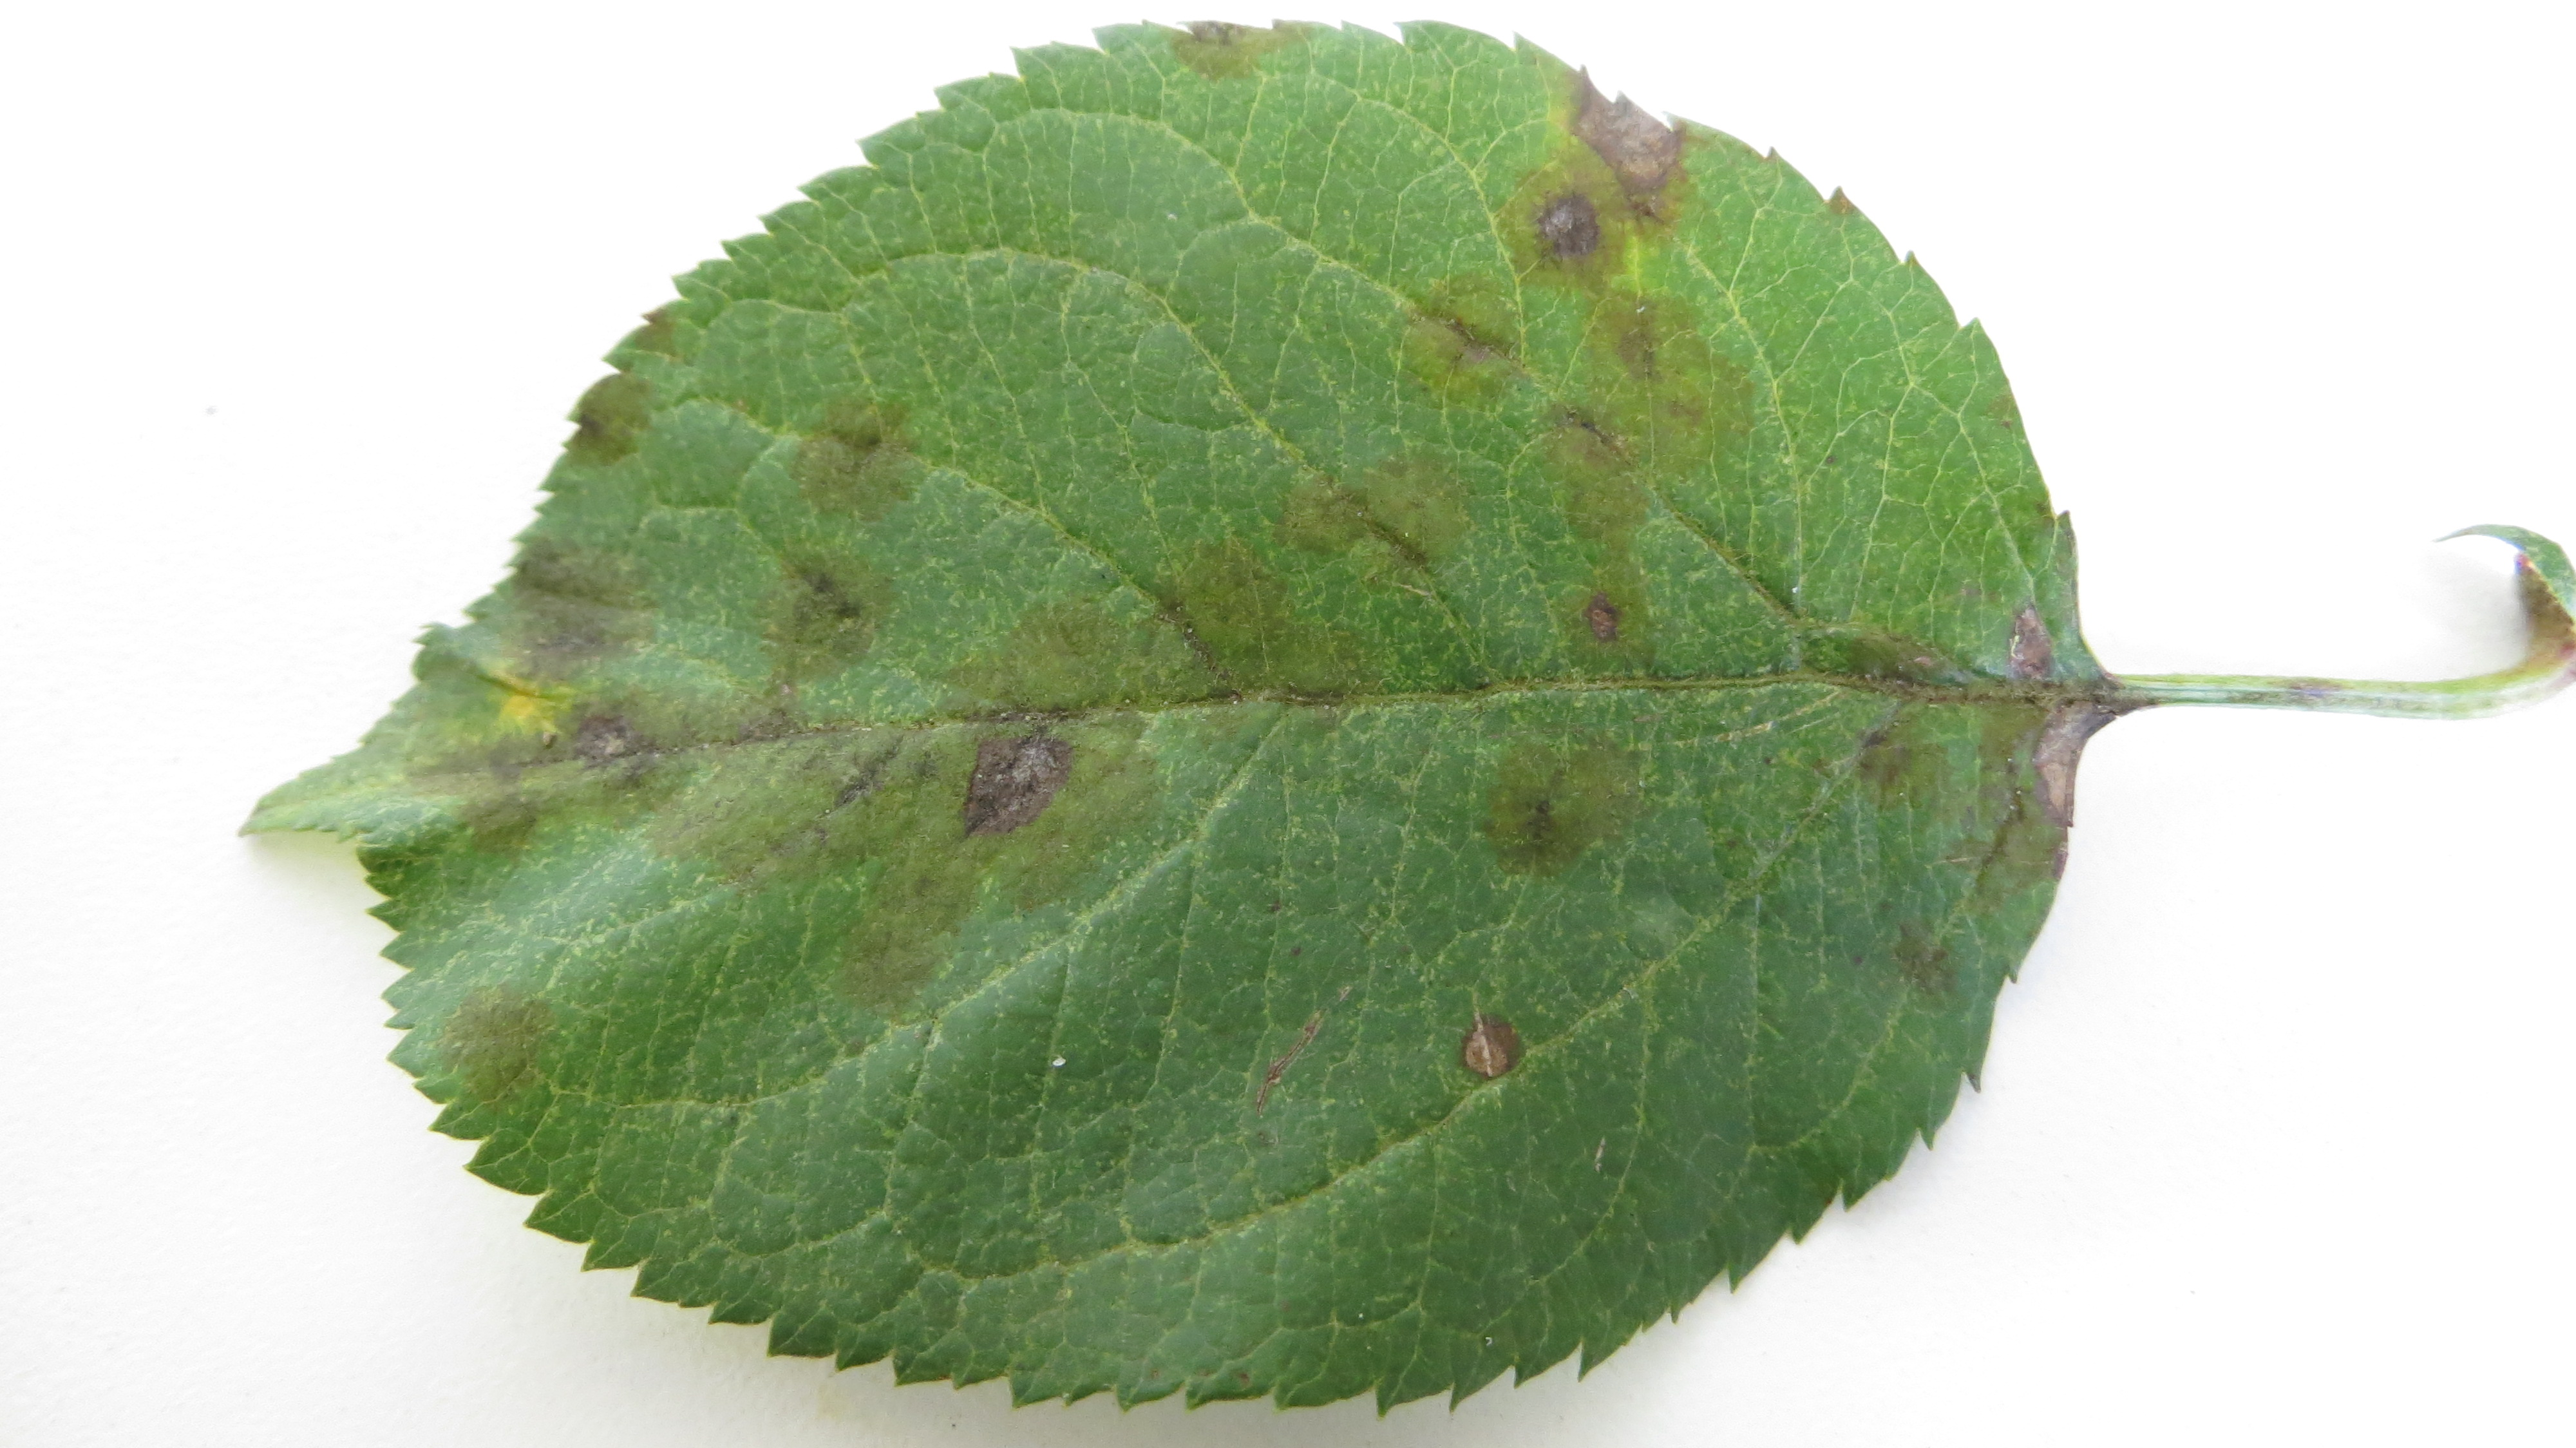sarna: (893, 607, 1187, 901), (1168, 535, 1378, 749), (686, 676, 890, 889), (426, 682, 690, 843), (1516, 375, 1668, 584), (1573, 274, 1737, 467), (1279, 437, 1481, 584), (1941, 651, 2066, 876), (1484, 728, 1644, 897), (508, 519, 667, 674), (1384, 246, 1522, 421), (1499, 143, 1633, 310), (425, 981, 587, 1108), (761, 536, 890, 676), (782, 384, 911, 519), (540, 352, 667, 480), (842, 887, 980, 997), (1557, 574, 1670, 696), (1835, 614, 1974, 708), (1874, 885, 1966, 1021), (1192, 25, 1329, 99), (1826, 713, 1934, 807), (1440, 993, 1527, 1094)
